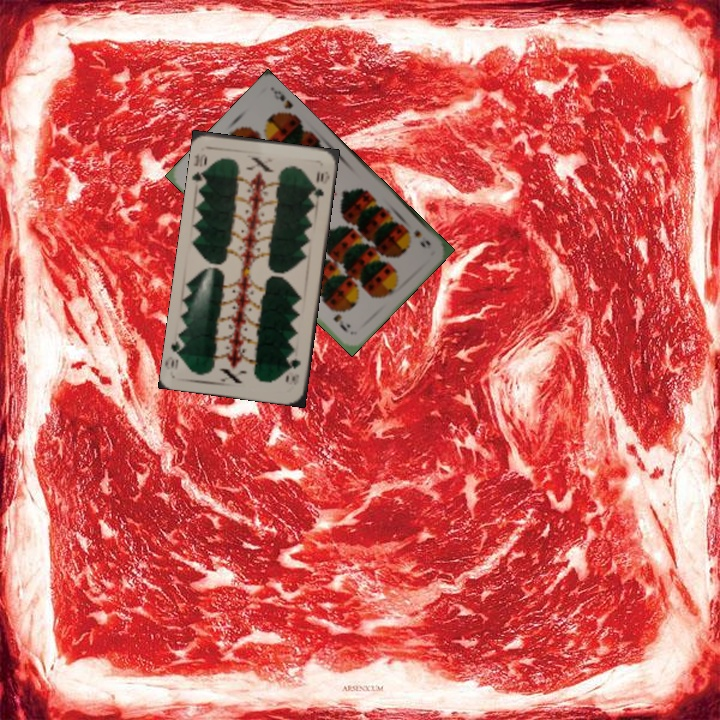G10: (189, 150, 211, 187), (285, 355, 303, 384)
S9: (410, 225, 433, 250)
